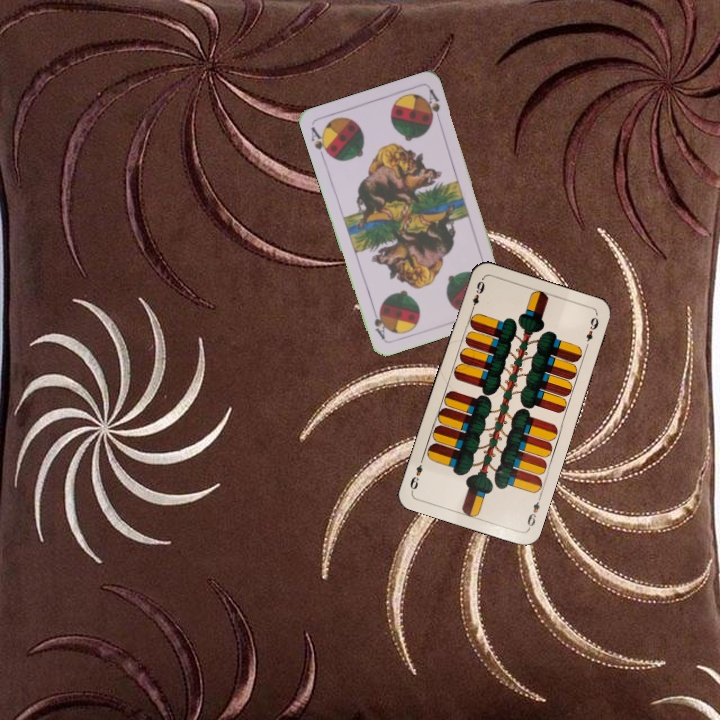E9: (523, 492, 544, 531), (467, 275, 487, 315)
SA: (307, 122, 333, 162)
